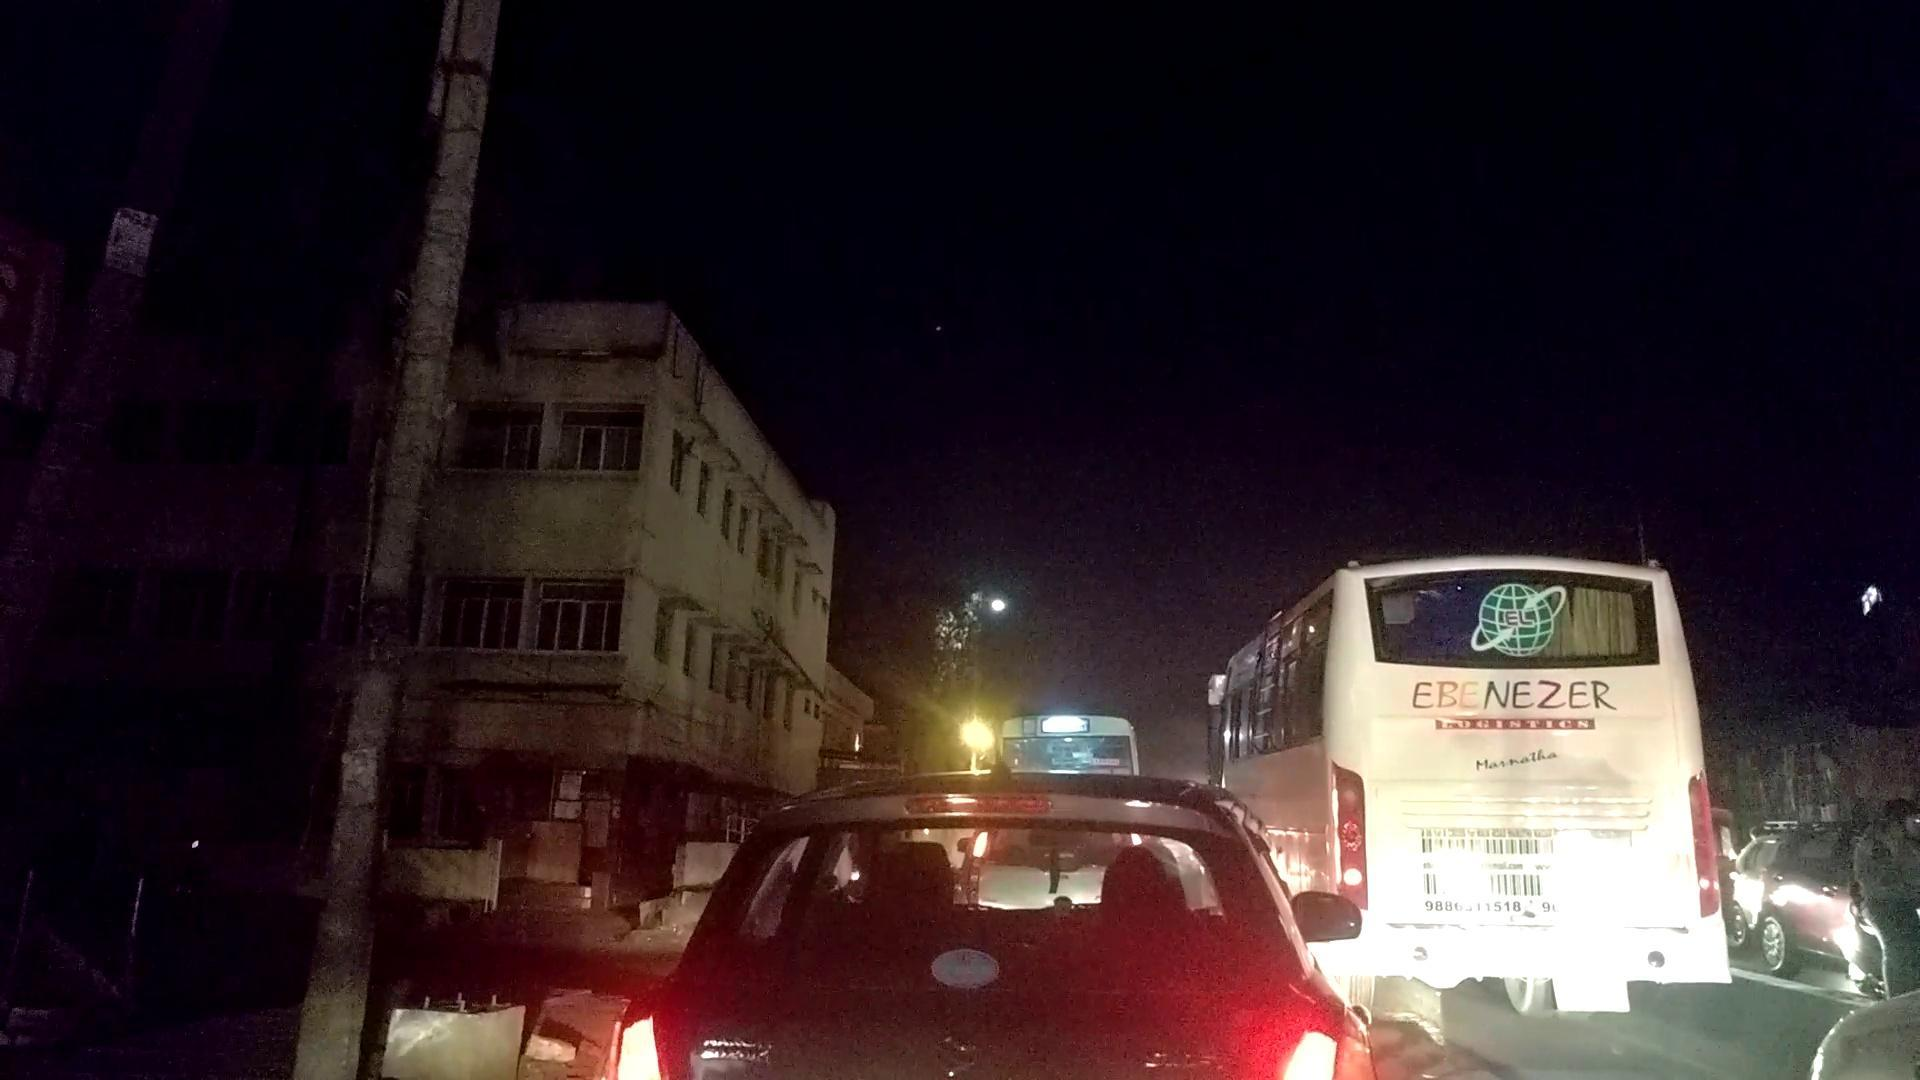on: (880, 522, 1215, 858)
